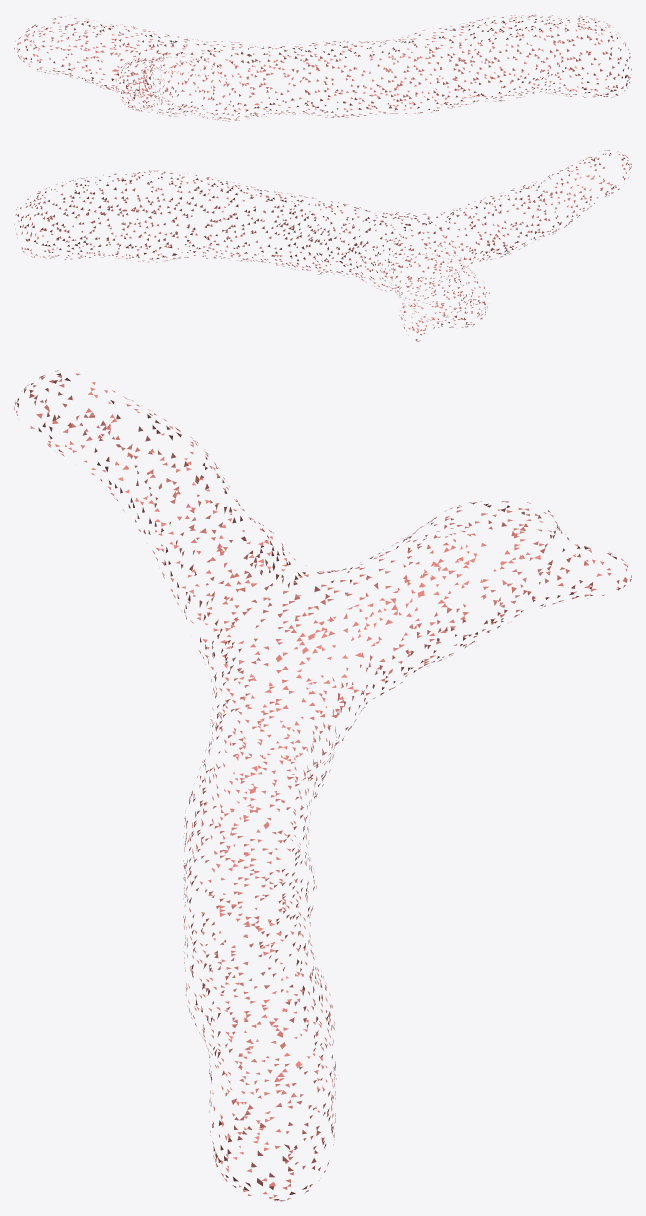
The model's file is morph_001.glb.
3 renders of one model, top to bottom at view 1: azimuth 30°, elevation 25°; view 2: azimuth 150°, elevation 25°; view 3: azimuth 270°, elevation 25°, orthographic. The views are drawn at different scales.
Bounding box in the file's own units: 138 × 45.92 × 72.16.
